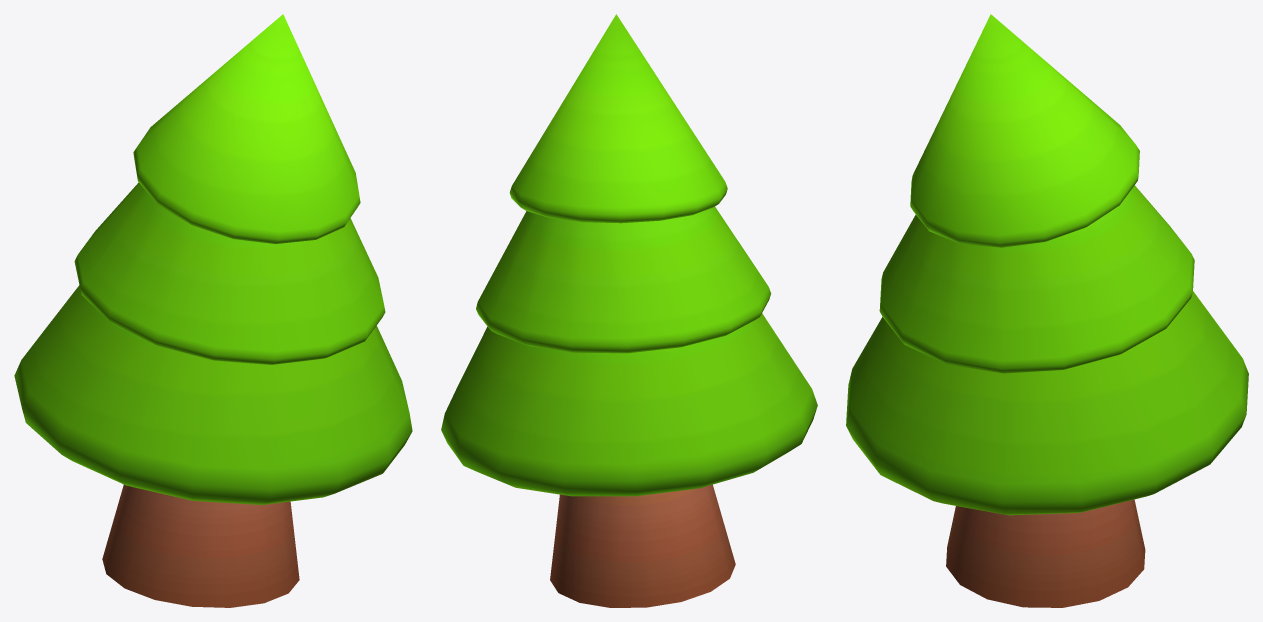
Rendered from Tree.fbx.
3 renders of one model, left to right at view 1: azimuth 30°, elevation 25°; view 2: azimuth 150°, elevation 25°; view 3: azimuth 270°, elevation 25°, orthographic. The views are drawn at different scales.
Parts seen in each view (by area): view 1: Tree_7; view 2: Tree_7; view 3: Tree_7.
Part boxes in pixels (x1,y1,x2,y2): Tree_7: [14, 14, 412, 607]; Tree_7: [441, 14, 817, 607]; Tree_7: [846, 14, 1248, 607].
Bounding box in the file's own units: 88.46 × 141 × 88.6.
1 material, 1 textured.
